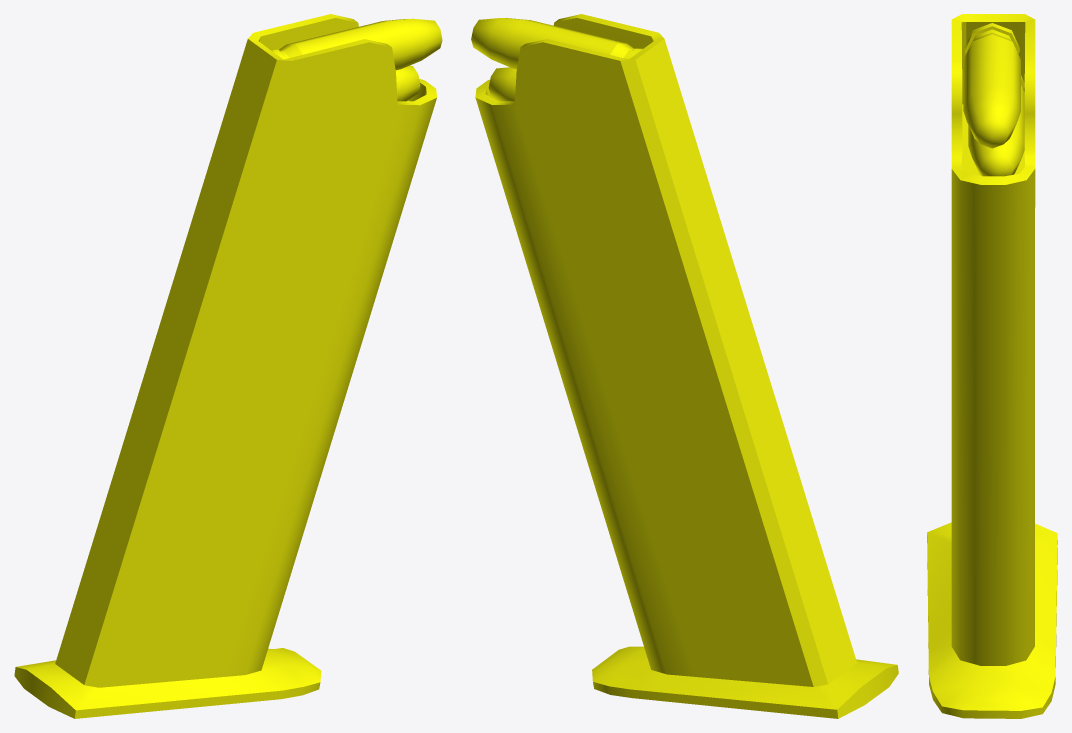
The model's file is Pistol_01_AdditionalMeshes.glb.
3 renders of one model, left to right at view 1: azimuth 30°, elevation 25°; view 2: azimuth 150°, elevation 25°; view 3: azimuth 270°, elevation 25°, orthographic. The views are drawn at different scales.
Visible parts, largest first — view 1: Pistol_01_Magazine_Mesh_Separated, Pistol_01_Magazine_Full_Mesh; view 2: Pistol_01_Magazine_Mesh_Separated, Pistol_01_Magazine_Full_Mesh; view 3: Pistol_01_Magazine_Mesh_Separated, Pistol_01_Magazine_Full_Mesh.
Part boxes in pixels (x1,y1,x2,y2): Pistol_01_Magazine_Mesh_Separated: (14, 14, 436, 718); Pistol_01_Magazine_Full_Mesh: (270, 18, 442, 101); Pistol_01_Magazine_Mesh_Separated: (475, 14, 898, 718); Pistol_01_Magazine_Full_Mesh: (471, 18, 642, 101); Pistol_01_Magazine_Mesh_Separated: (927, 14, 1057, 718); Pistol_01_Magazine_Full_Mesh: (963, 23, 1024, 176).
Bounding box in the file's own units: 0.0794 × 0.1185 × 0.0206.
2 materials, 2 textured.
